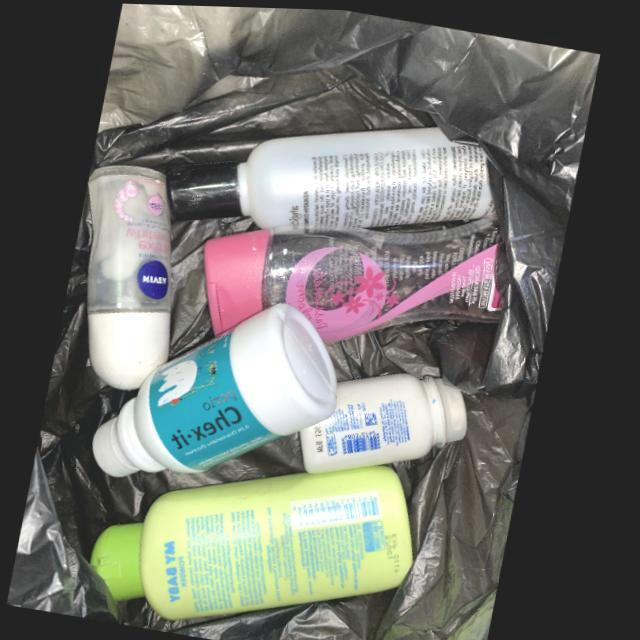glass_bottle: (89, 165, 178, 391)
plastic_container: (96, 463, 419, 620), (97, 301, 342, 478), (206, 212, 503, 341), (167, 125, 493, 227), (304, 371, 472, 472)
